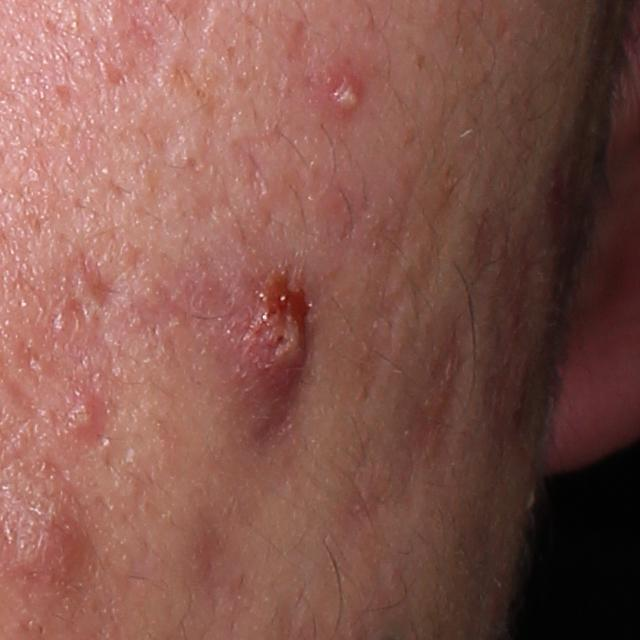atrophic_scar: (395, 317, 472, 465), (175, 497, 243, 607), (80, 254, 124, 306), (66, 296, 93, 325)
nodule: (176, 238, 342, 457)
papule: (13, 491, 93, 590), (68, 389, 113, 447)
pustule: (319, 66, 365, 123)
